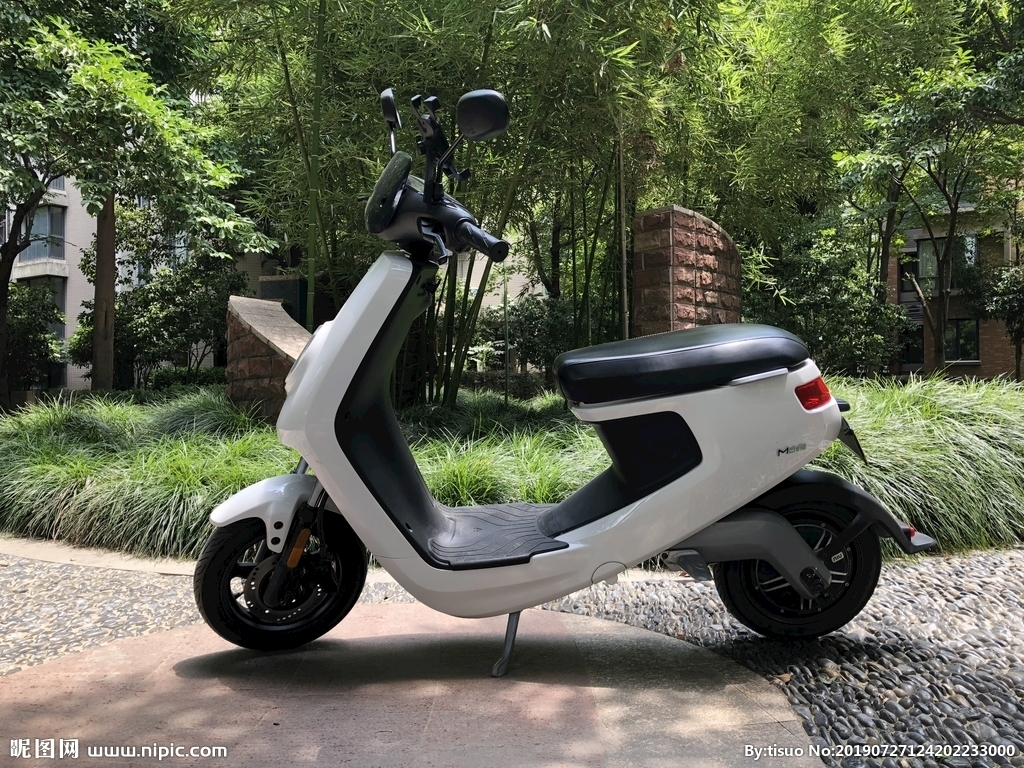MNV: (191, 101, 888, 657)
